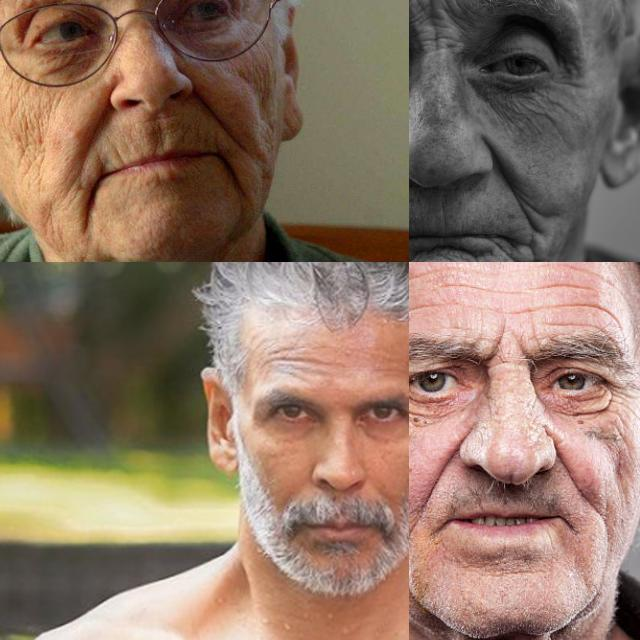chin: (485, 556, 545, 584), (444, 240, 498, 262), (409, 243, 431, 262)
crows_feet: (604, 374, 638, 420), (557, 58, 589, 94)
forehead: (536, 265, 608, 323), (445, 262, 521, 309), (266, 341, 306, 371), (409, 262, 428, 296), (310, 352, 334, 372)
frown_line: (488, 318, 528, 368), (409, 0, 462, 19), (419, 27, 458, 49)
gummy_smile: (419, 442, 466, 503), (548, 438, 592, 500), (488, 143, 520, 203), (191, 86, 223, 124), (84, 102, 110, 140), (518, 206, 544, 236)
masseter: (15, 111, 47, 162), (596, 516, 616, 582), (409, 530, 417, 591)
sad_smile: (79, 173, 99, 221), (224, 153, 246, 190), (523, 237, 540, 262)
smoker_lines: (436, 198, 452, 226)
